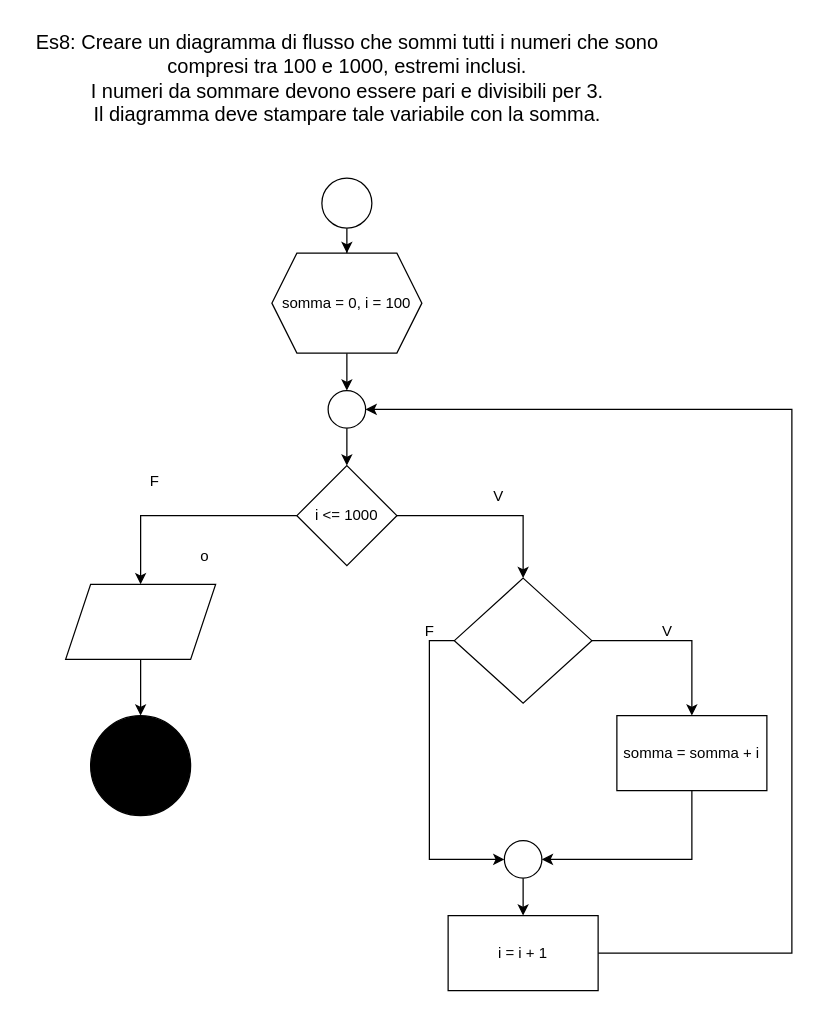
The diagram is 824 pixels wide and 1013 high, and some of its shapes have lost their labels. The shapes that lost their labels are listed below. From the top down, each one's box as (x1, y1, x2, y2) in pixels, then its label:
(64, 583, 216, 659): somma
(453, 577, 592, 703): i % 2 == 0 && i % 3 == 0
